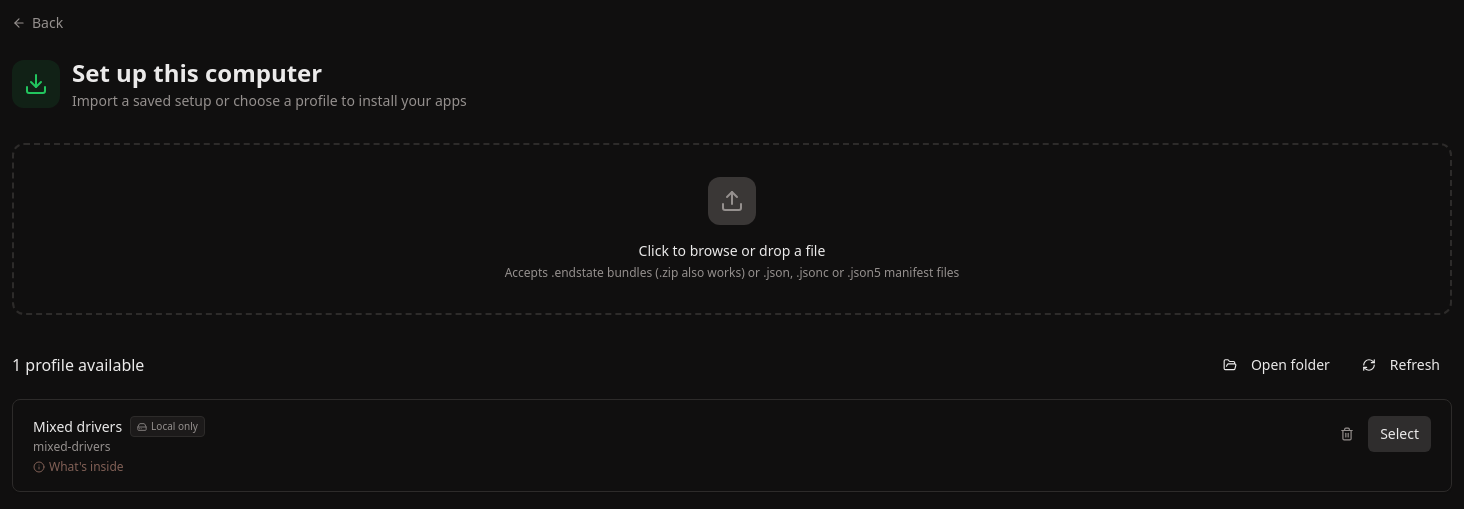
Scenario: SetupFlow command warnings › replaces preview warnings with the live apply warning list
The width and height of the screenshot is (1464, 509).
Click the button "Mixed drivers Local only mixed-drivers What's inside Select". click: (78, 426)
box: top-left (12, 399), bottom-right (1452, 492)
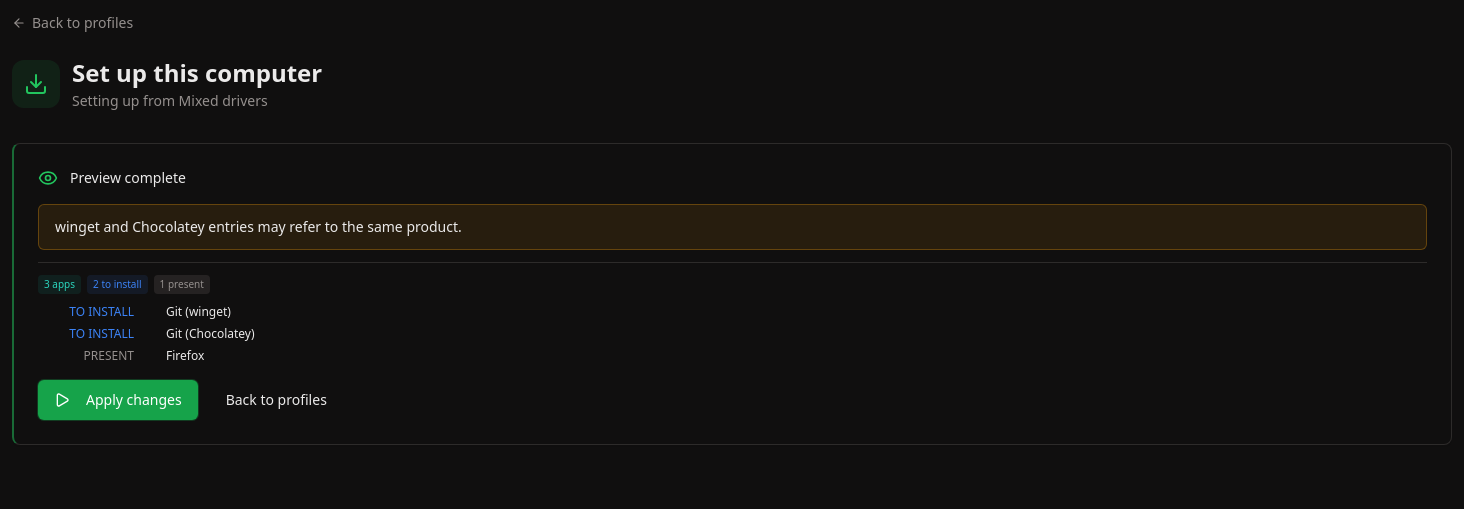
Check: the button with test id "setup-flow-apply" is shown
Check: the text "winget and Chocolatey entries may refer to the same product." is shown, box top-left (55, 217), bottom-right (462, 236)
Click the button with test id "setup-flow-apply". click: (118, 400)
box: top-left (38, 380), bottom-right (198, 420)
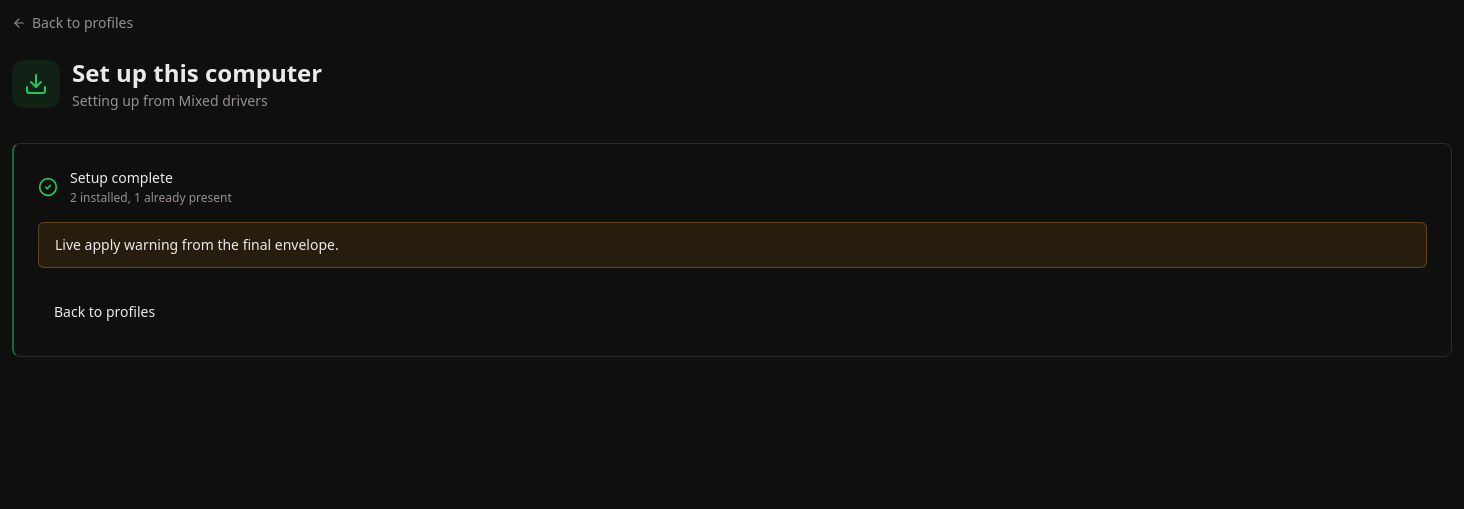
Check: the text "Live apply warning from the final envelope." is shown, box top-left (55, 235), bottom-right (339, 254)
Check: the text "winget and Chocolatey entries may refer to the same product." is gone
